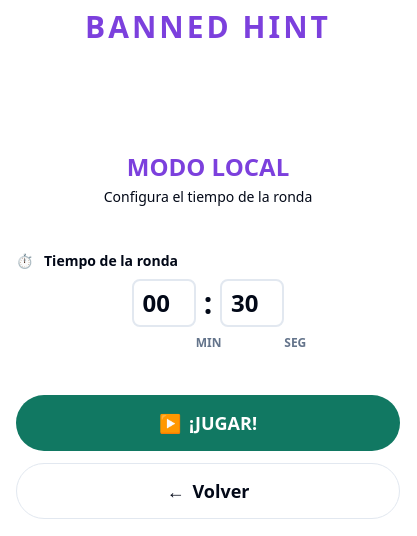
Test case: LocalSetupPage › allows any non-negative minutes value
Replace the text in the number field named "Minutos" with "5" at (164, 303), box x1=132 y1=279 x2=196 y2=327
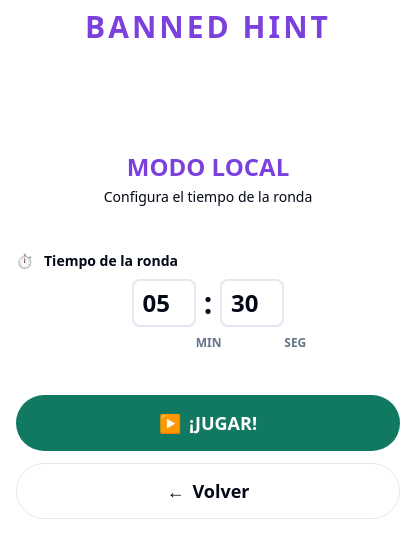
expect the number field named "Minutos" holds "05": met
Replace the text in the number field named "Minutos" with "0" at (164, 303), box x1=132 y1=279 x2=196 y2=327
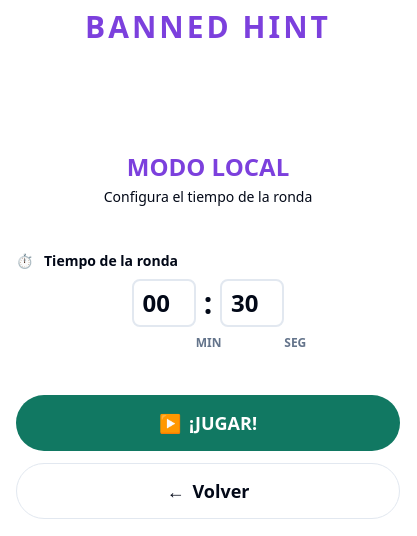
expect the number field named "Minutos" holds "00": met, box x1=132 y1=279 x2=196 y2=327
